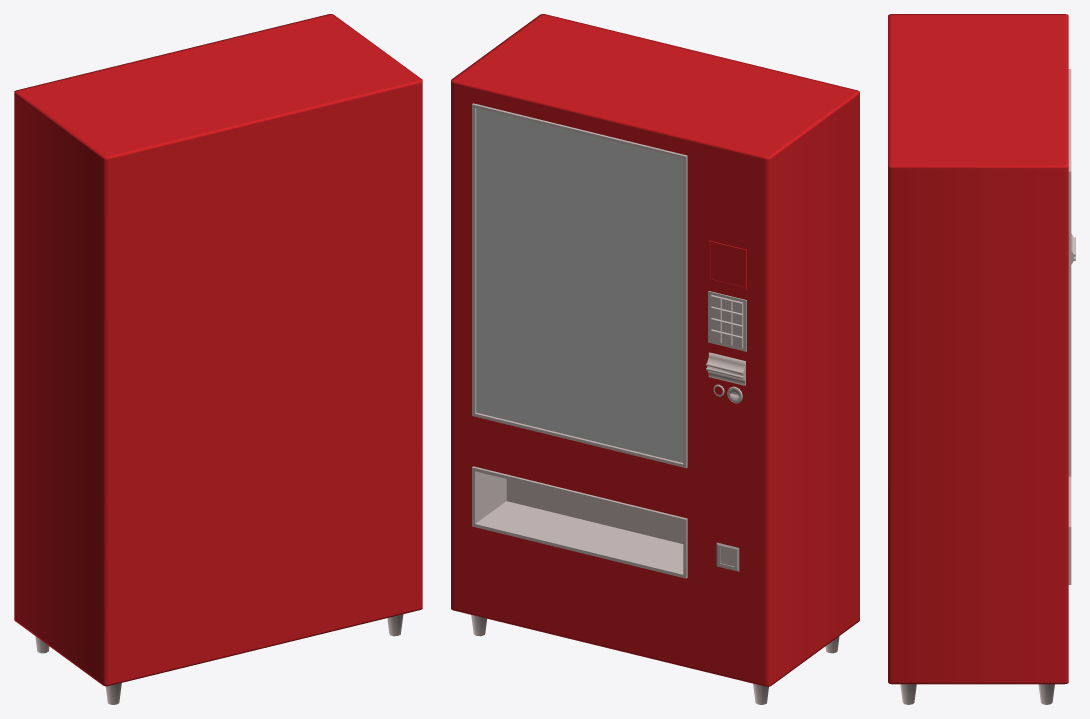
Rendered from VMP_MOD_Vending_machine_01.fbx.
The picture shows the model from 3 angles, left to right: view 1: azimuth 30°, elevation 25°; view 2: azimuth 150°, elevation 25°; view 3: azimuth 270°, elevation 25°; orthographic projection. The views are drawn at different scales.
Parts seen in each view (by area): view 1: VMP_MOD_Vending_machine_01_01, VMP_MOD_Vending_machine_01_02; view 2: VMP_MOD_Vending_machine_01_01, VMP_MOD_Vending_machine_01_glass, VMP_MOD_Vending_machine_01_02; view 3: VMP_MOD_Vending_machine_01_01, VMP_MOD_Vending_machine_01_02.
Boxes of the visible parts, bbox=[...] form: VMP_MOD_Vending_machine_01_01: bbox=[14, 14, 422, 686]; VMP_MOD_Vending_machine_01_02: bbox=[35, 614, 403, 704]; VMP_MOD_Vending_machine_01_01: bbox=[451, 14, 859, 686]; VMP_MOD_Vending_machine_01_glass: bbox=[476, 108, 683, 462]; VMP_MOD_Vending_machine_01_02: bbox=[471, 103, 839, 704]; VMP_MOD_Vending_machine_01_01: bbox=[888, 14, 1068, 684]; VMP_MOD_Vending_machine_01_02: bbox=[900, 69, 1075, 704].
Bounding box in the file's own units: 1.2 × 2 × 0.625.
